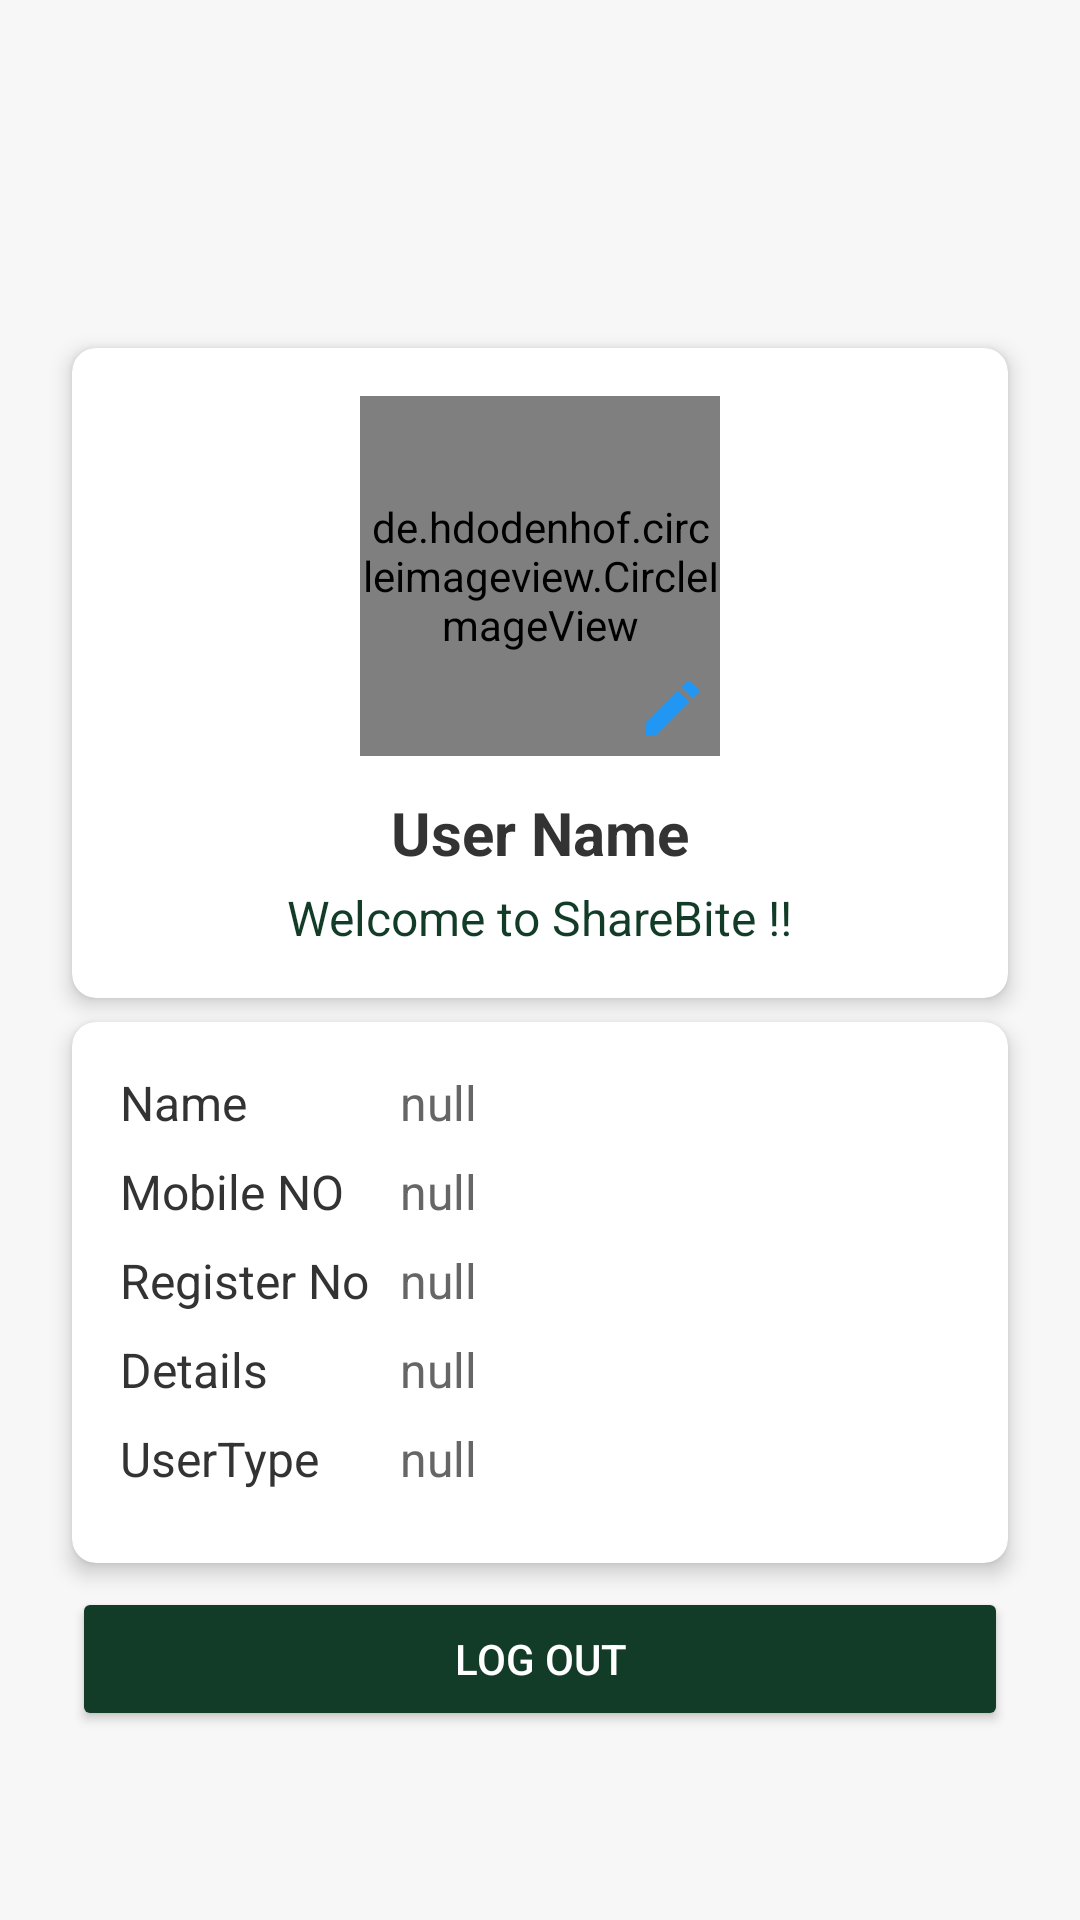

Icons on this 1080 × 1920 Android screen, each with the point to tap as (x,y):
Edit Photo: (672,708)
